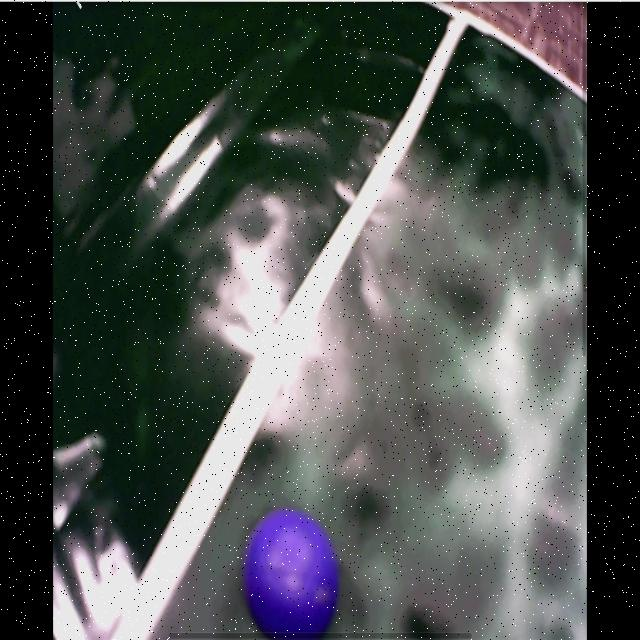ball: (244, 510, 338, 640)
